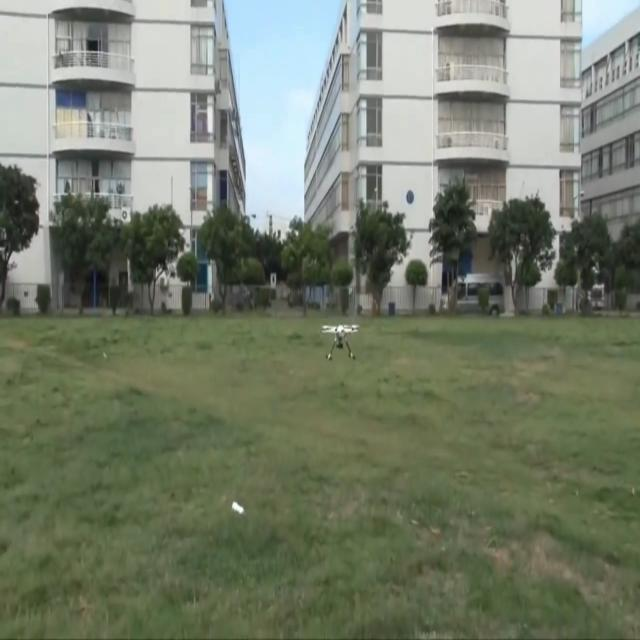drone: (320, 322, 360, 360)
